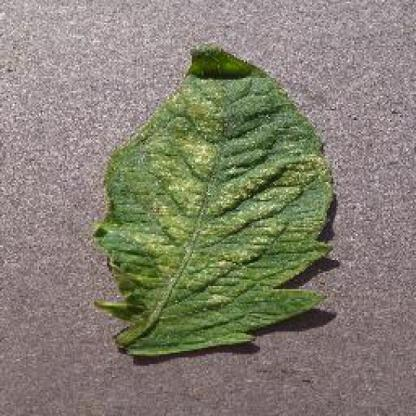Tomato_Spider_Mites: (102, 50, 332, 362)
